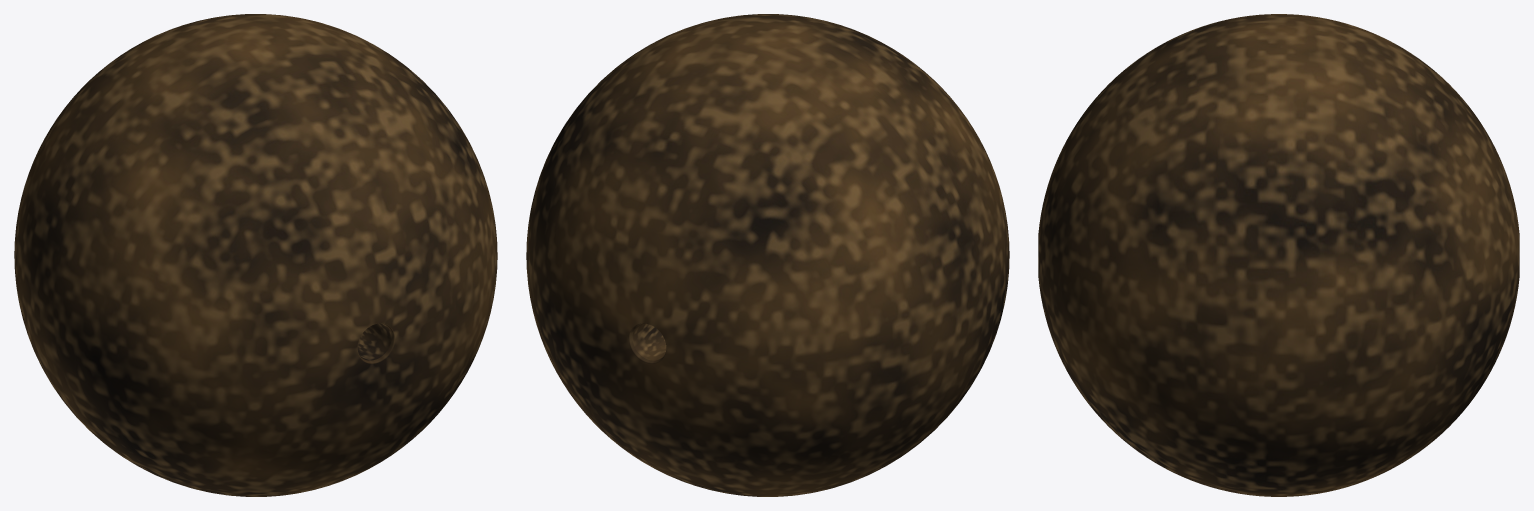
Rendered from bronzite-12mm.glb.
3 views of the same model, side by side, from view 1: azimuth 30°, elevation 25°; view 2: azimuth 150°, elevation 25°; view 3: azimuth 270°, elevation 25° (orthographic).
Parts seen in each view (by area): view 1: bronzite.001; view 2: bronzite.001; view 3: bronzite.001.
Boxes of the visible parts, x1,y1,x2,y2 form: bronzite.001: [14, 14, 497, 496]; bronzite.001: [526, 14, 1009, 496]; bronzite.001: [1038, 14, 1519, 496].
Size of the model in its own units: 0.012 by 0.012 by 0.012.
Materials: 1 (1 with a texture image).
